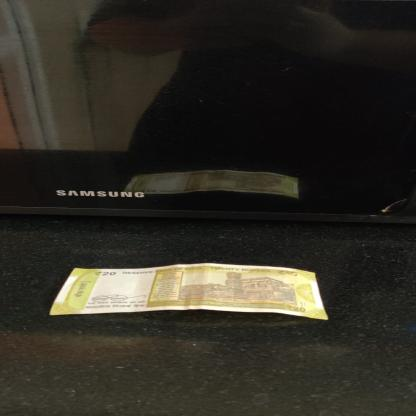New20Back: (46, 264, 331, 322)
